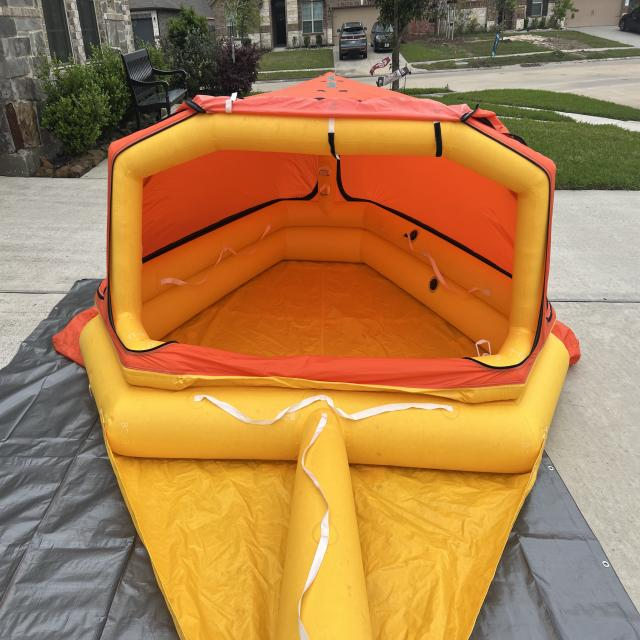Multi-person_life_raft: (52, 71, 580, 639)
